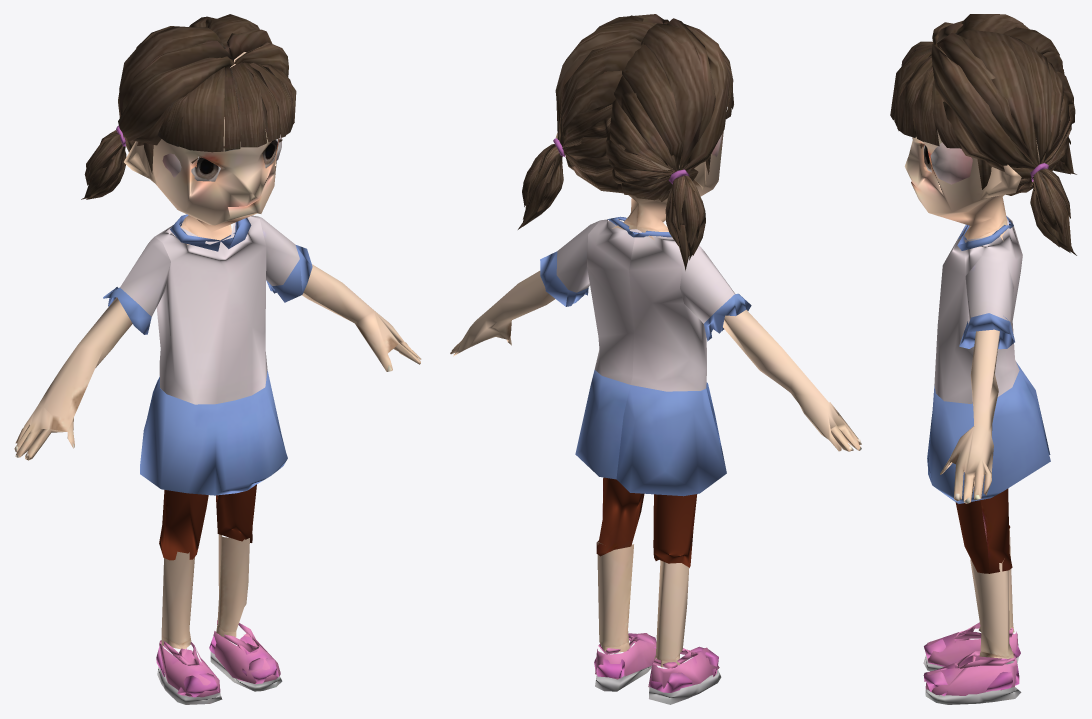
Rendered from Little_girl1.glb.
The picture shows the model from 3 angles, left to right: view 1: azimuth 30°, elevation 25°; view 2: azimuth 150°, elevation 25°; view 3: azimuth 270°, elevation 25°; orthographic projection.
Visible parts, largest first — view 1: Obj3d66-14499316-11-44, Obj3d66-14499316-8-77, Obj3d66-14499316-5-718, Obj3d66-14499316-9-130, Obj3d66-14499316-14-809; view 2: Obj3d66-14499316-11-44, Obj3d66-14499316-5-718, Obj3d66-14499316-8-77, Obj3d66-14499316-9-130; view 3: Obj3d66-14499316-5-718, Obj3d66-14499316-11-44, Obj3d66-14499316-8-77, Obj3d66-14499316-9-130, Obj3d66-14499316-14-809.
Boxes of the visible parts, x1,y1,x2,y2 form: Obj3d66-14499316-11-44: [103, 214, 312, 495]; Obj3d66-14499316-8-77: [14, 52, 421, 649]; Obj3d66-14499316-5-718: [81, 14, 296, 199]; Obj3d66-14499316-9-130: [156, 484, 282, 704]; Obj3d66-14499316-14-809: [162, 134, 281, 181]; Obj3d66-14499316-11-44: [540, 216, 751, 496]; Obj3d66-14499316-5-718: [518, 14, 733, 270]; Obj3d66-14499316-8-77: [450, 131, 861, 667]; Obj3d66-14499316-9-130: [594, 477, 721, 704]; Obj3d66-14499316-5-718: [890, 14, 1076, 255]; Obj3d66-14499316-11-44: [927, 216, 1050, 503]; Obj3d66-14499316-8-77: [904, 129, 1039, 658]; Obj3d66-14499316-9-130: [923, 488, 1021, 704]; Obj3d66-14499316-14-809: [923, 142, 972, 184].
Size of the model in its own units: 0.6485 by 0.9974 by 0.2593.
Materials: 7 (5 with a texture image).
